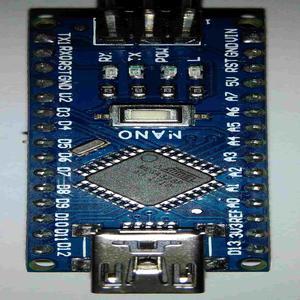duino: (30, 4, 267, 278)
